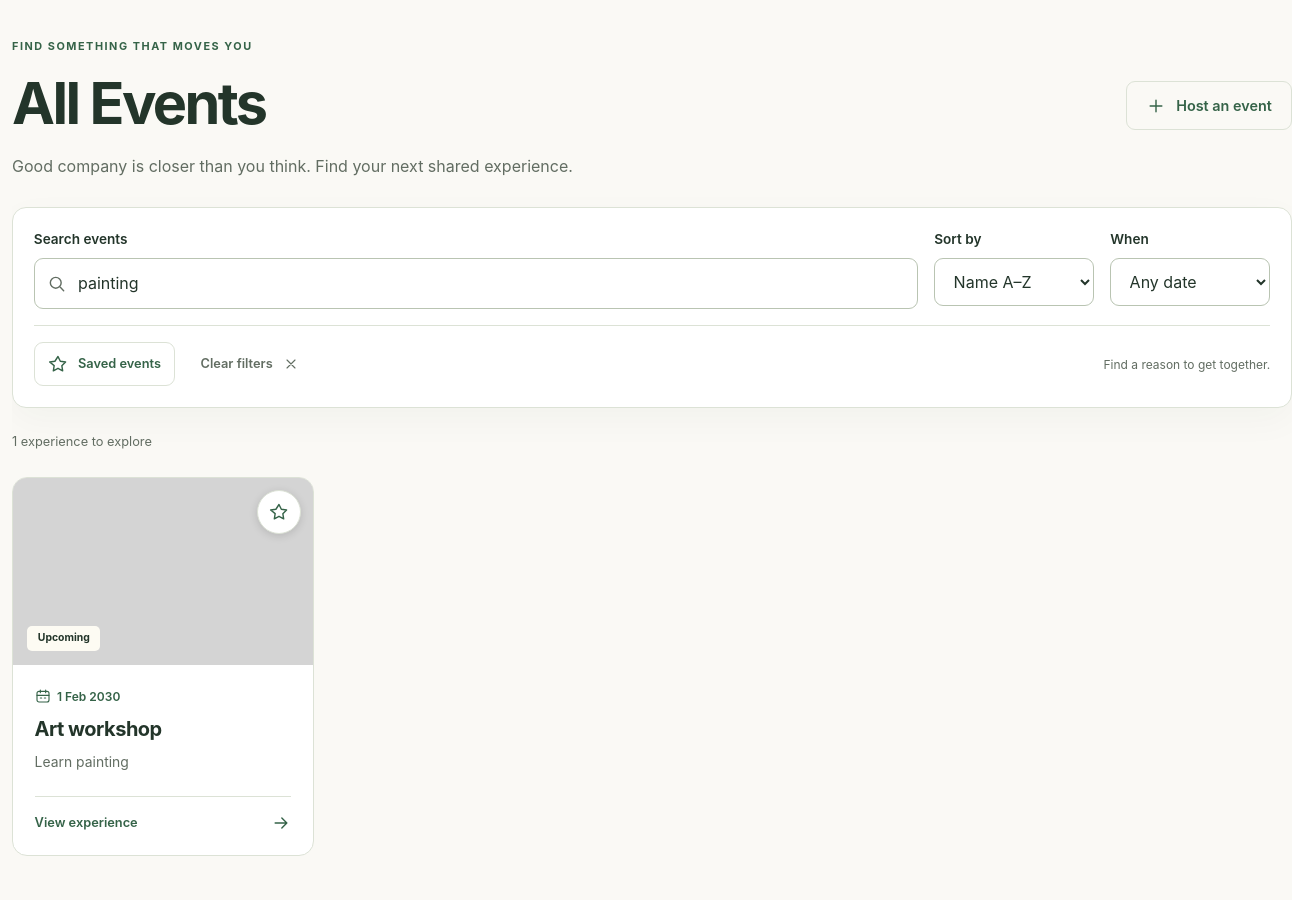
Test: restores URL filters and writes searches and sorting back to the URL
Step 1. Replace the text in the search field with "Creative" → (476, 284), box [34,258,918,310]
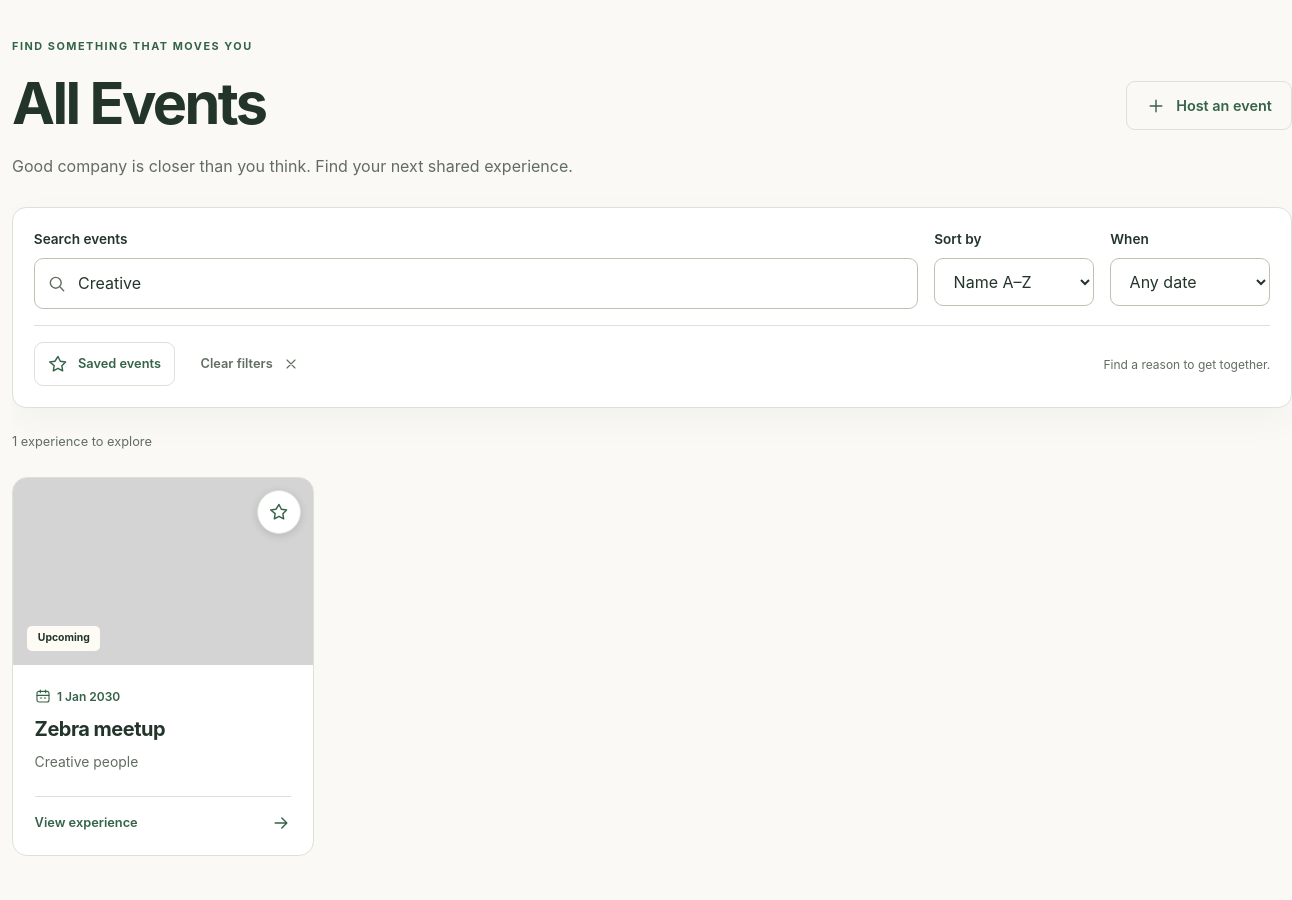
Step 2. Select "Event date" in the dropdown labelled "Sort by" → (1014, 282), box [934,258,1094,306]
(page scrolled)
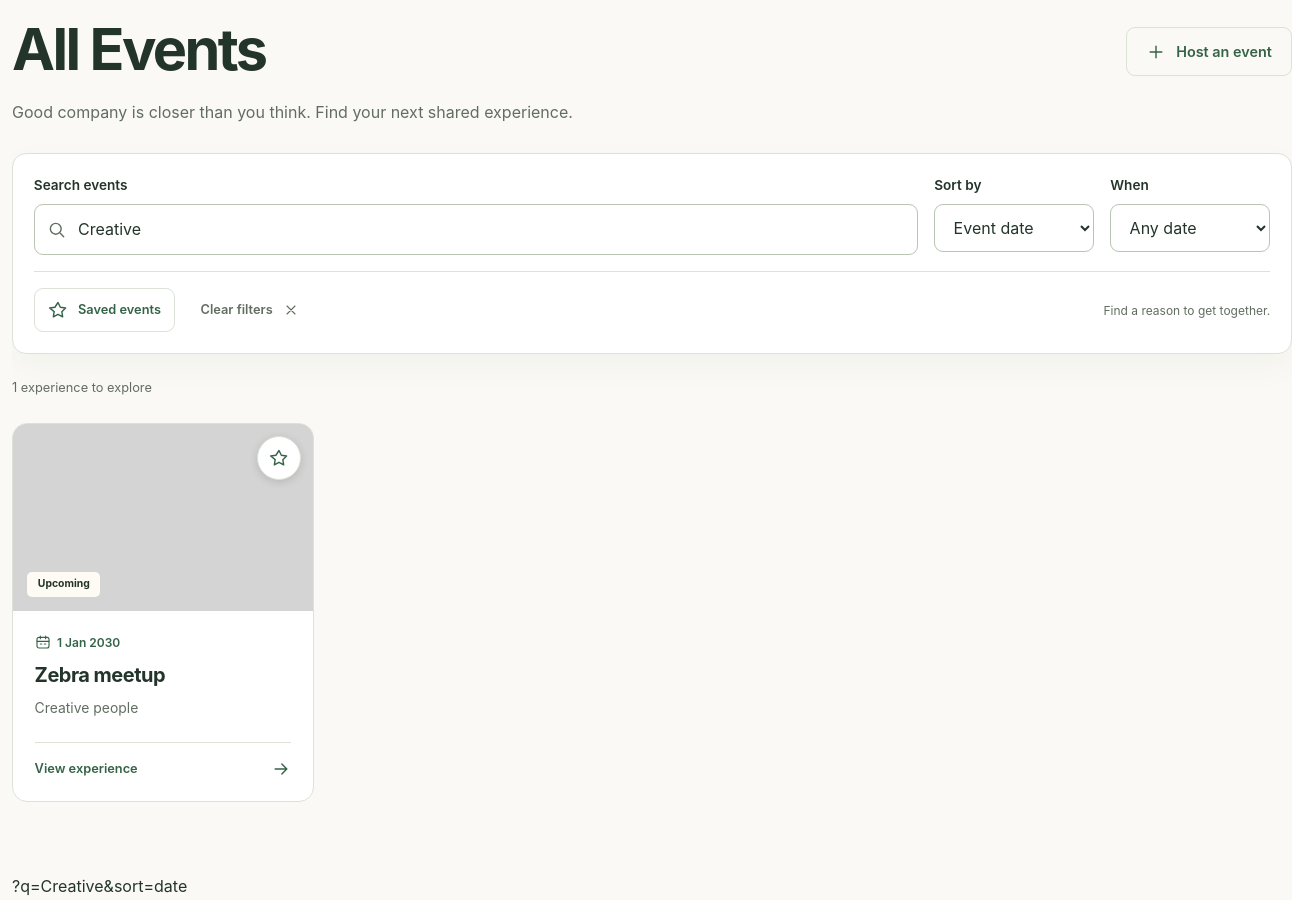
Now the text with test id "location" shows "sort=date", box [12,876,187,896]
